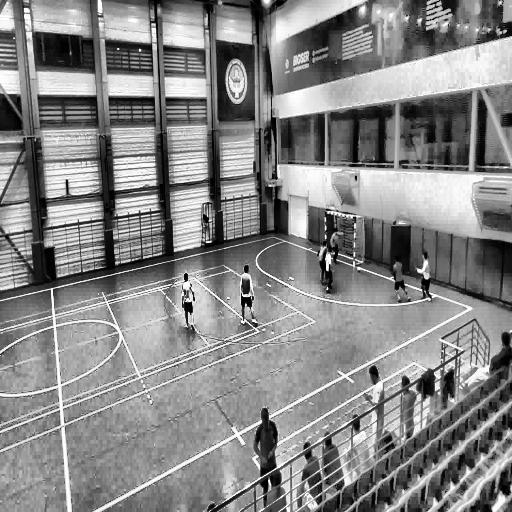ball: (357, 265, 362, 276)
player: (254, 408, 278, 508), (240, 264, 257, 326), (181, 272, 196, 331), (393, 256, 410, 302), (417, 251, 432, 299), (328, 226, 343, 267), (325, 246, 336, 296), (318, 240, 328, 286)
